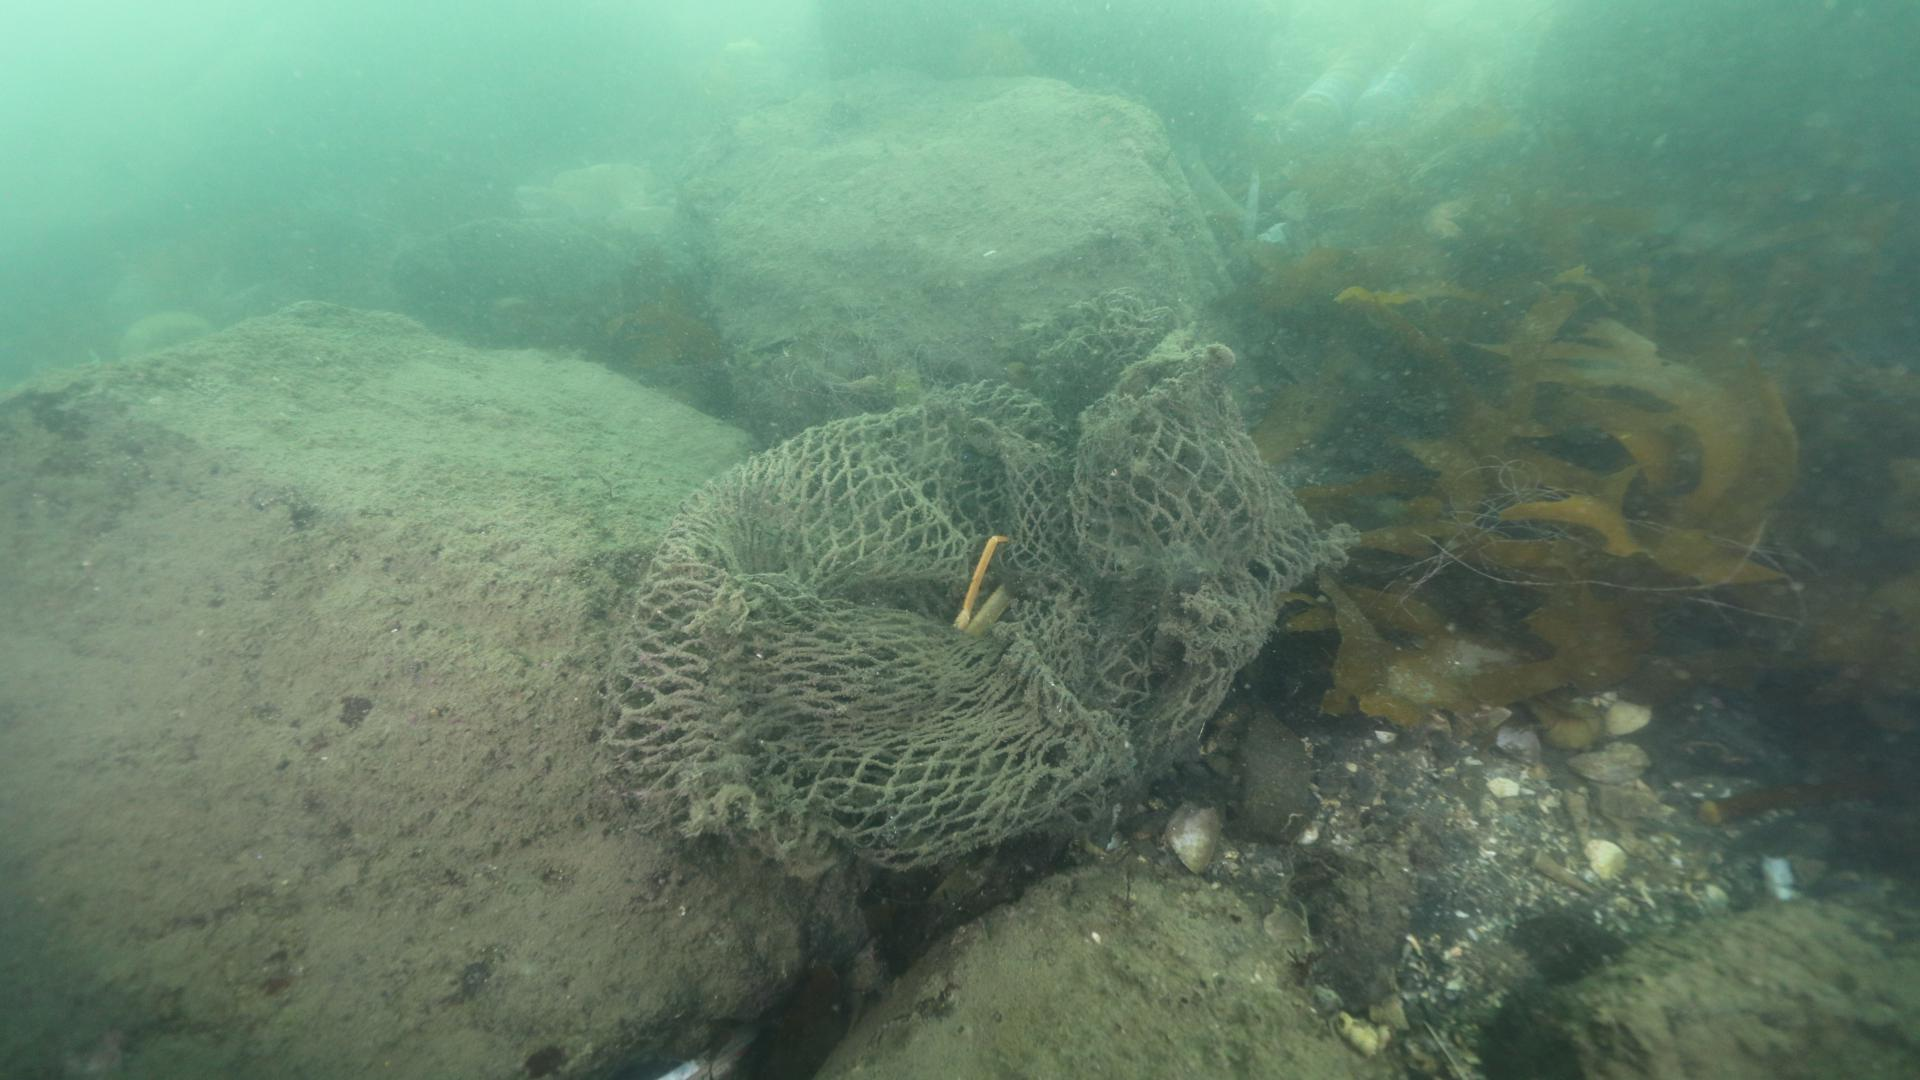fish net: (603, 281, 1325, 882)
